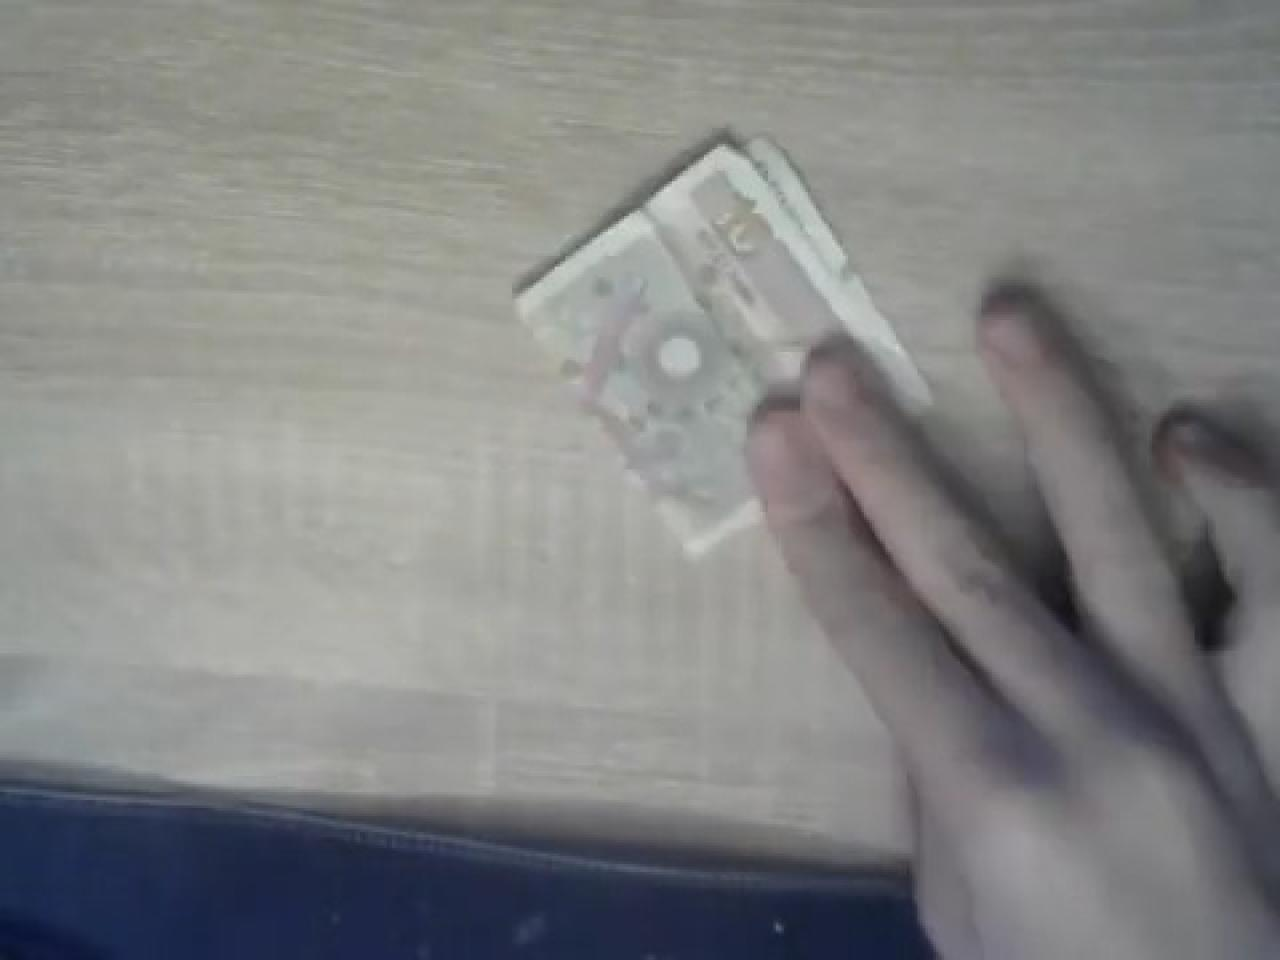10leva: (512, 136, 936, 563)
